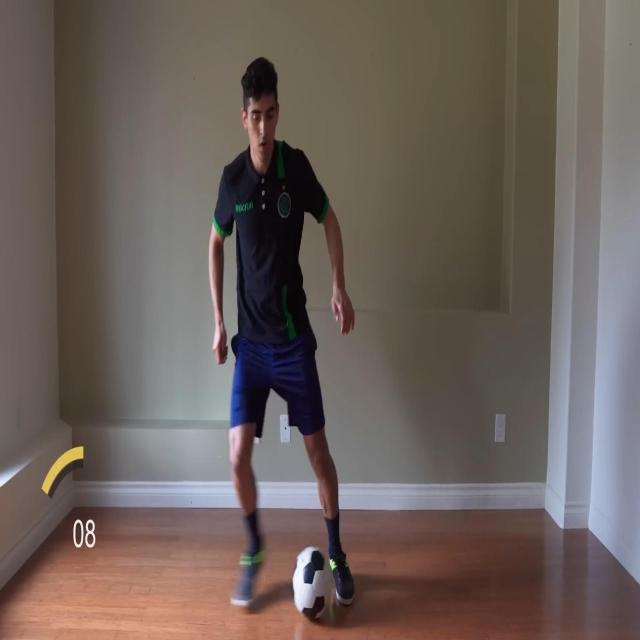Soccer Ball: (292, 547, 334, 624)
